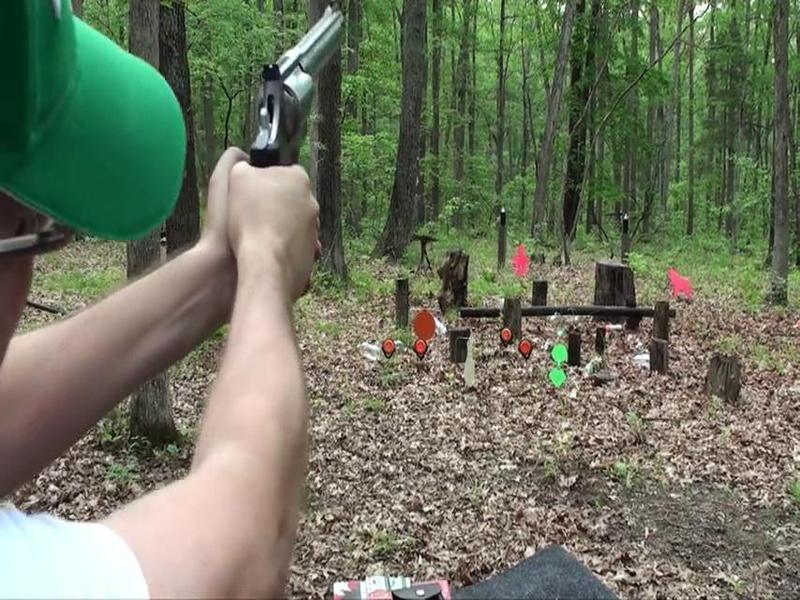Revolver: (244, 1, 346, 168)
